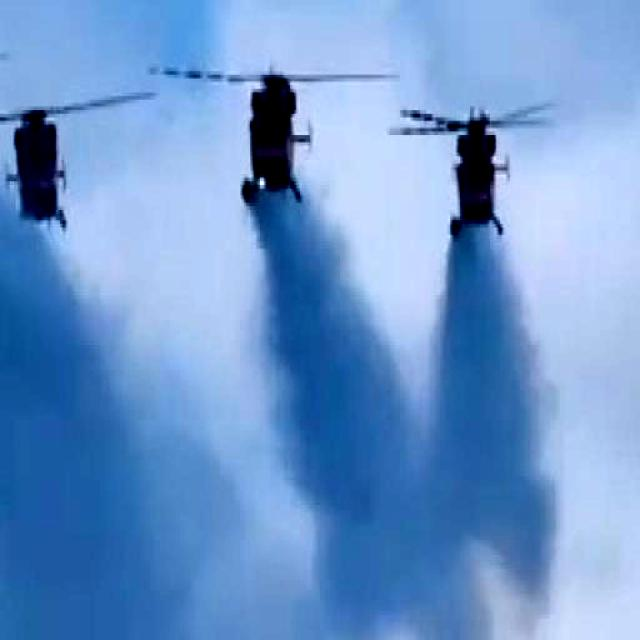drone: (429, 80, 531, 270), (231, 39, 314, 225), (8, 84, 81, 239)
